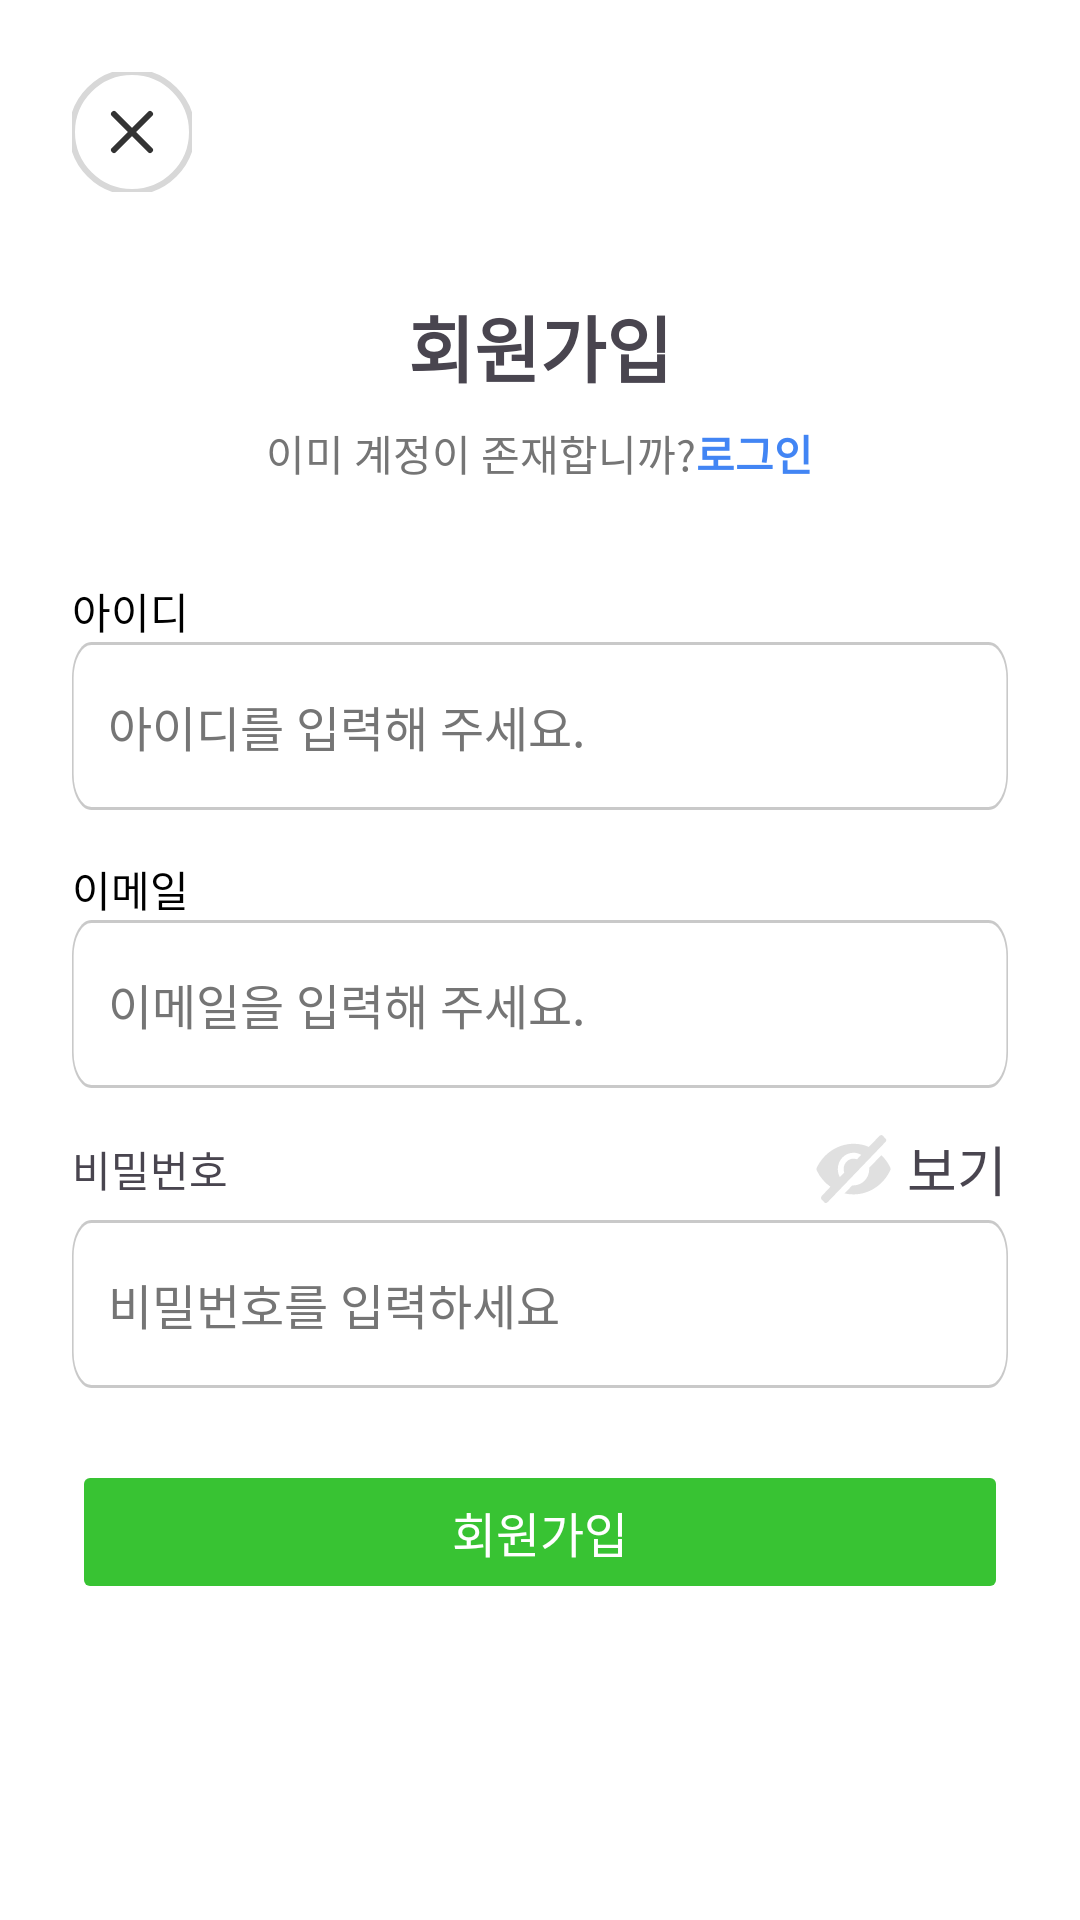

Icons on this 1080 x 1920 Android screen, each with the point to tap as (x=x, y=y):
hide: (x=853, y=1169)
